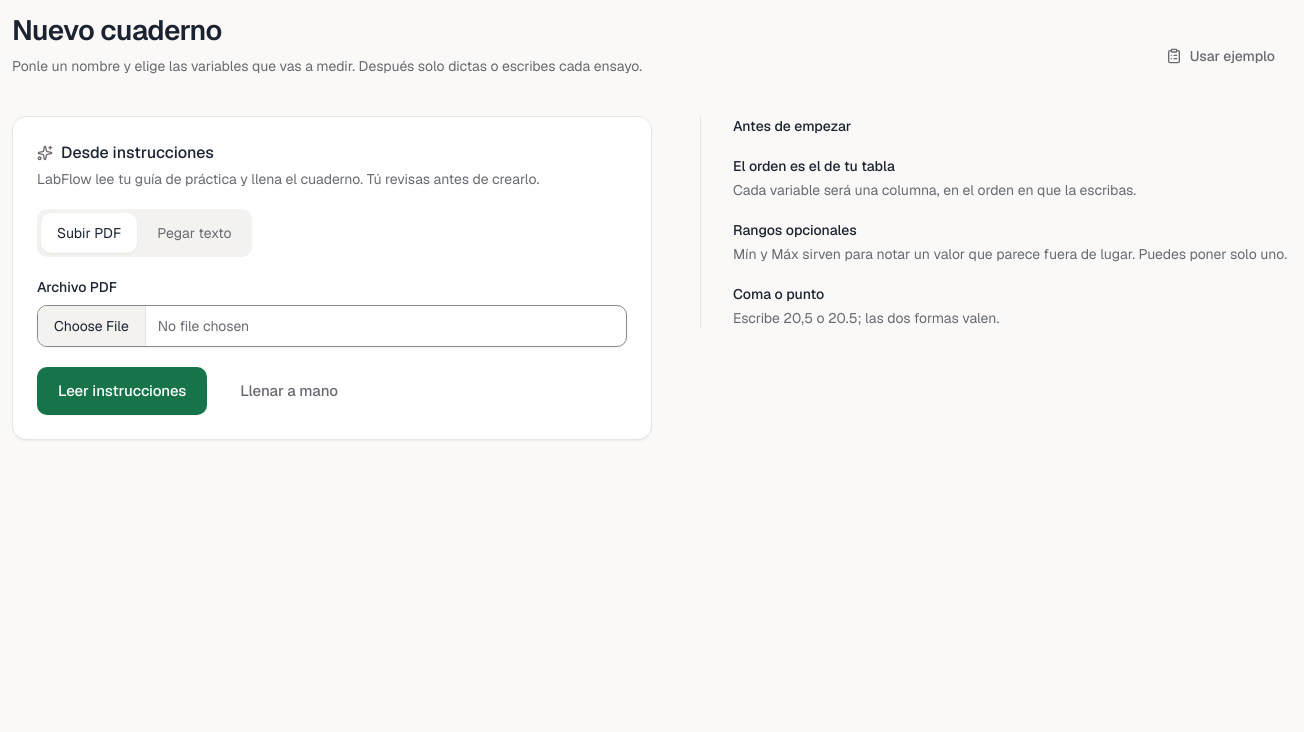
Test: the panel (AC-19, AC-20, AC-35) › checks the input before sending anything
This screenshot has width=1304, height=732.
Click the button "Leer instrucciones" at (122, 391), box left=37, top=367, right=207, bottom=415
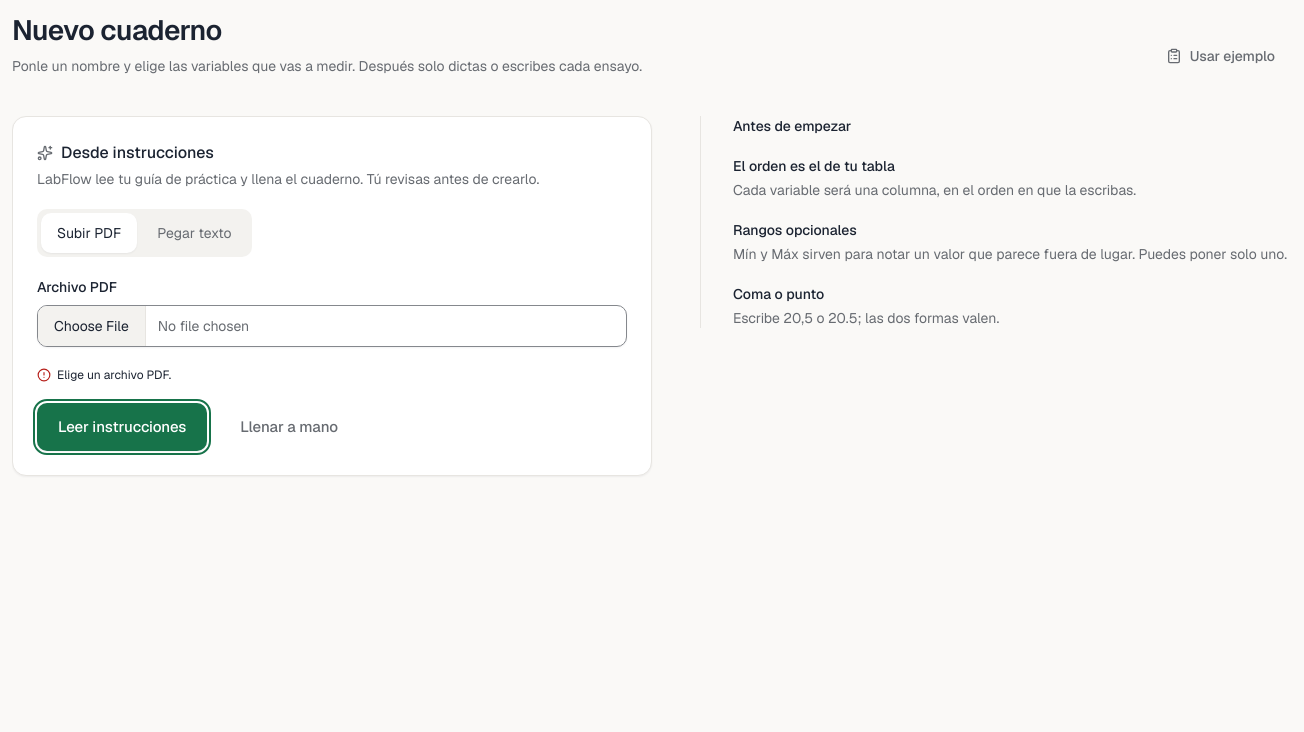
Now the text "Elige un archivo PDF." is shown, box left=37, top=367, right=171, bottom=383
Click the radio button labelled "Pegar texto" at (194, 233), box left=157, top=224, right=232, bottom=242
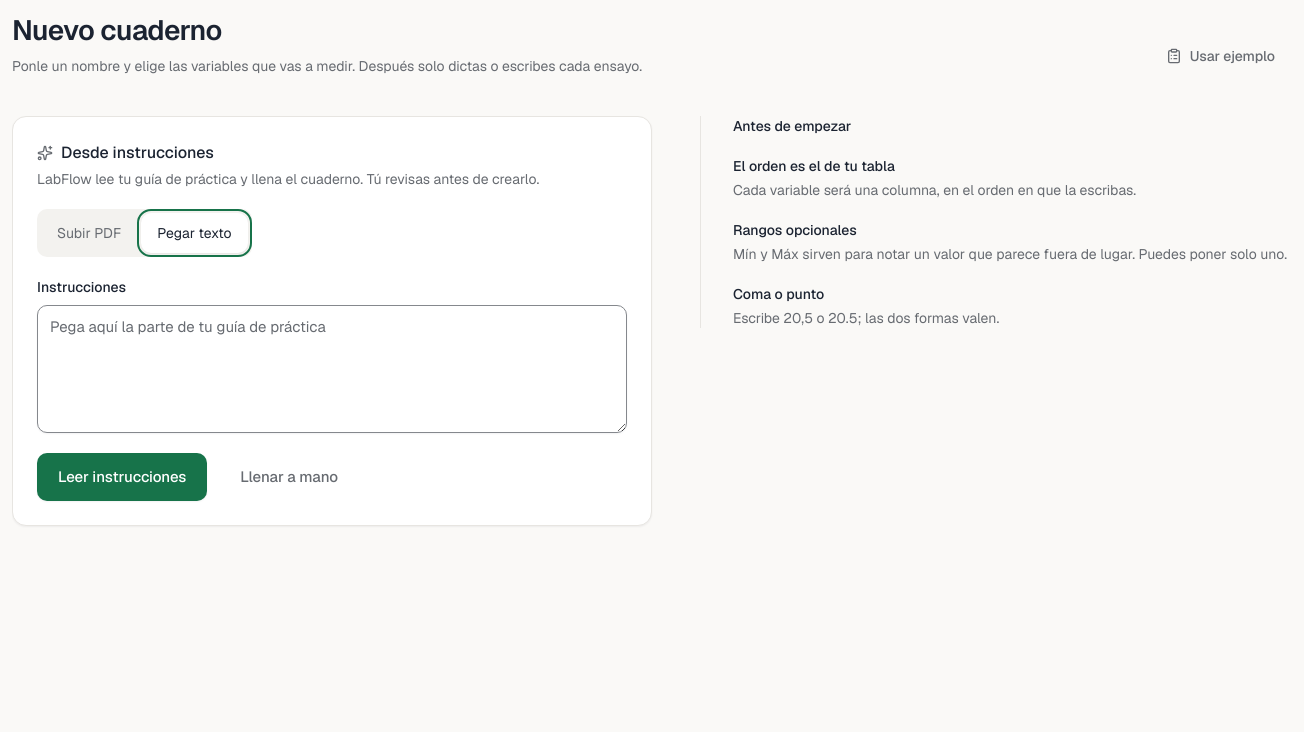
Click the text box labelled "Instrucciones" at (332, 369), box left=37, top=305, right=627, bottom=433
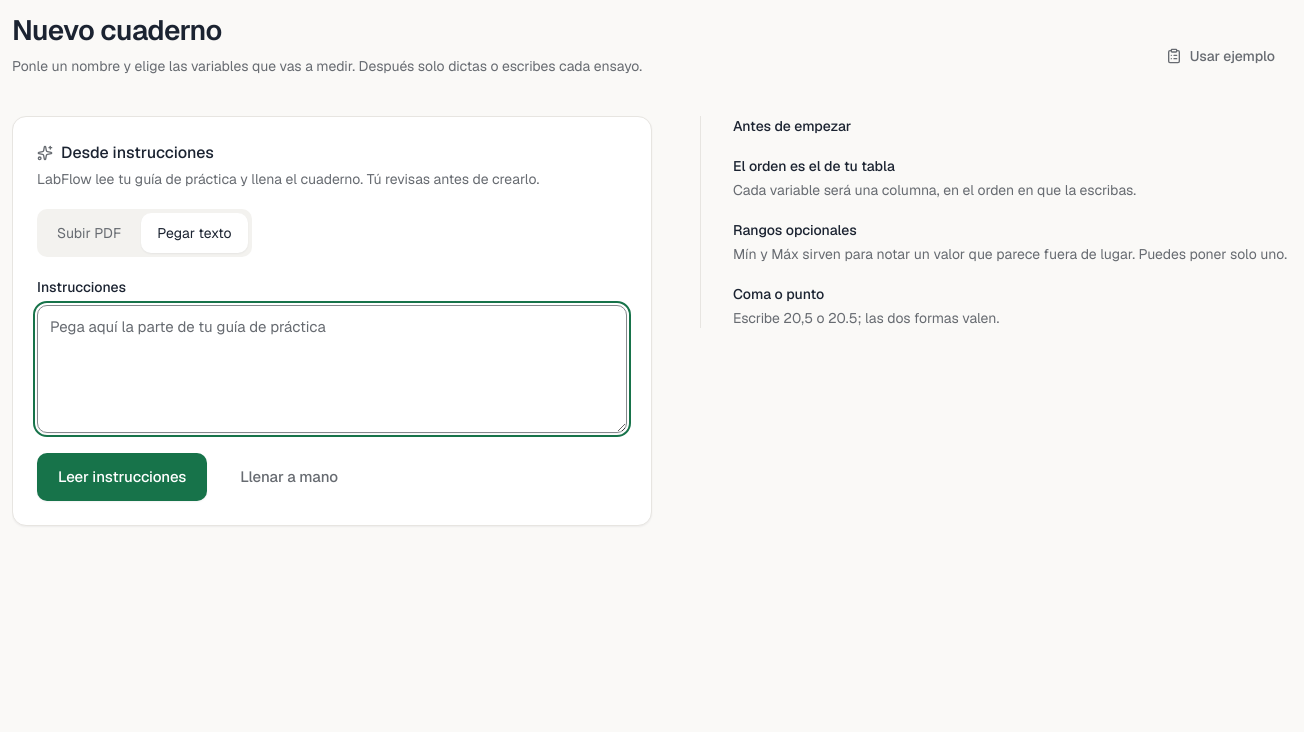
Type keys "muy corto"
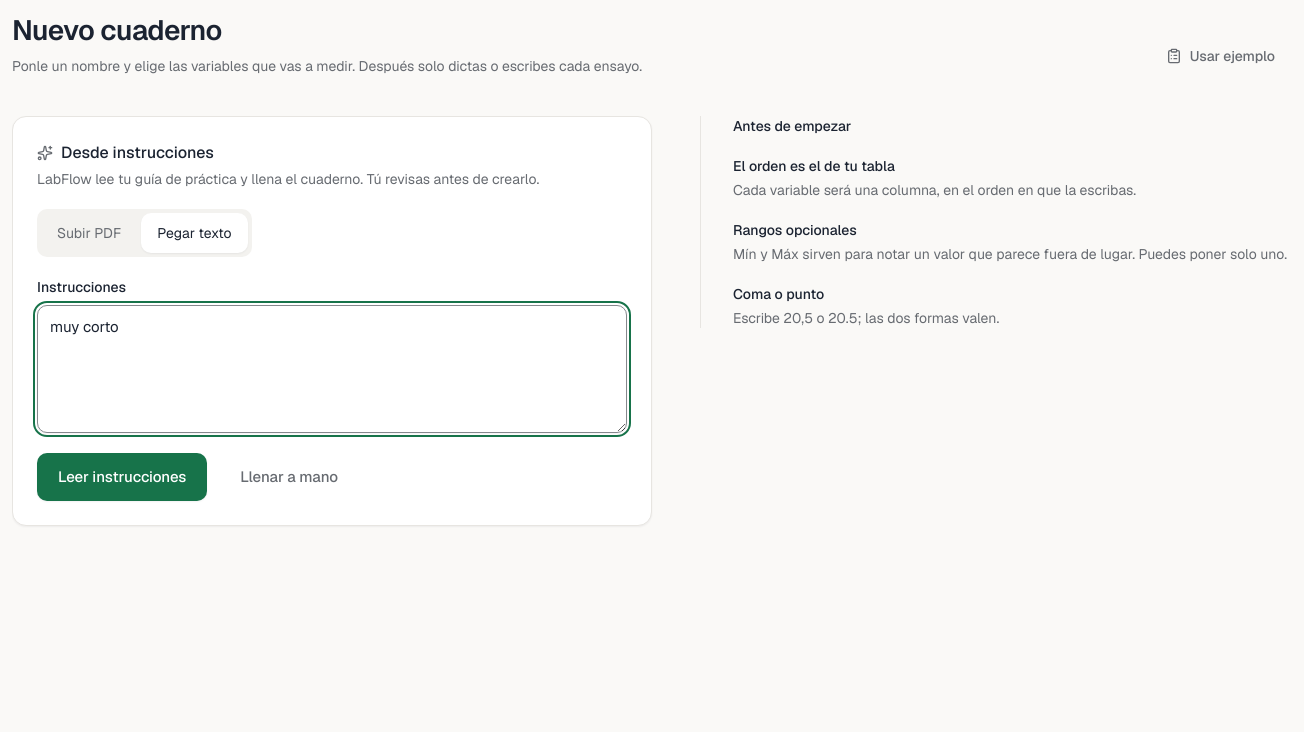
Click the button "Leer instrucciones" at (122, 477), box left=37, top=453, right=207, bottom=501
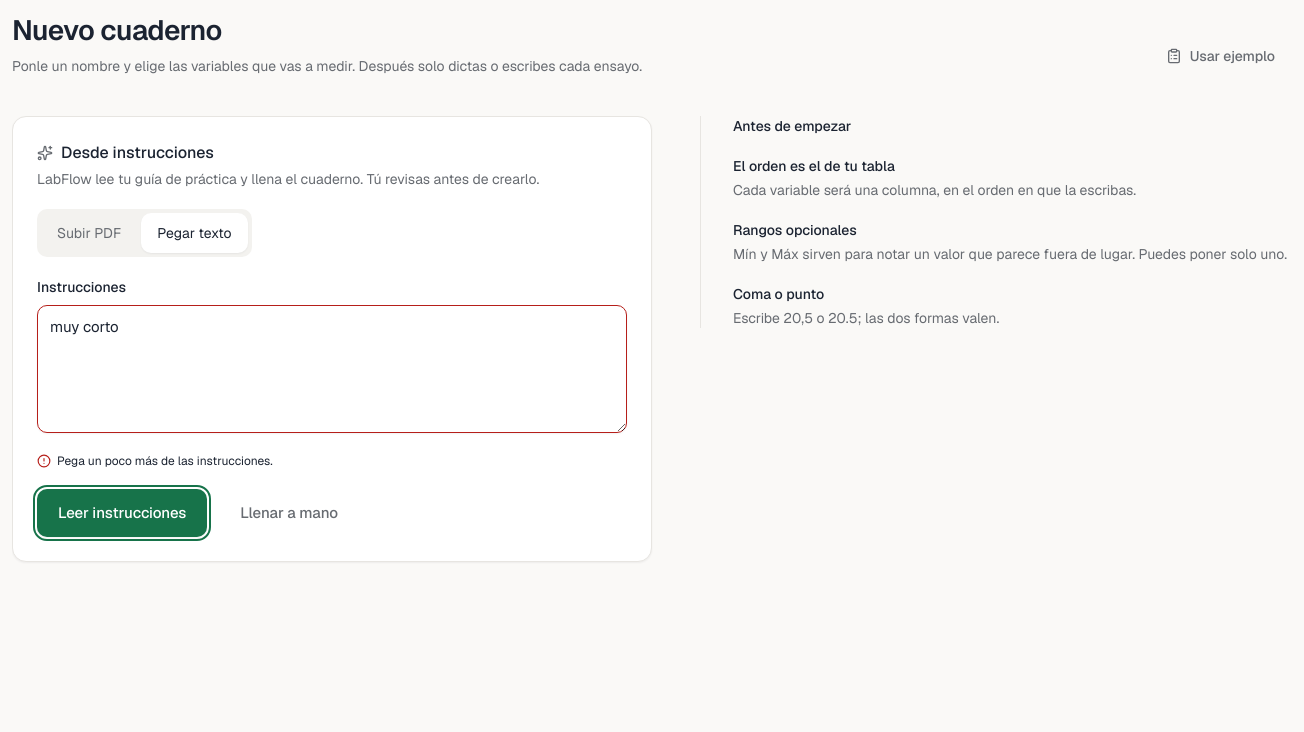
Now the text "Pega un poco más de las instrucciones." is shown, box left=37, top=453, right=273, bottom=469
